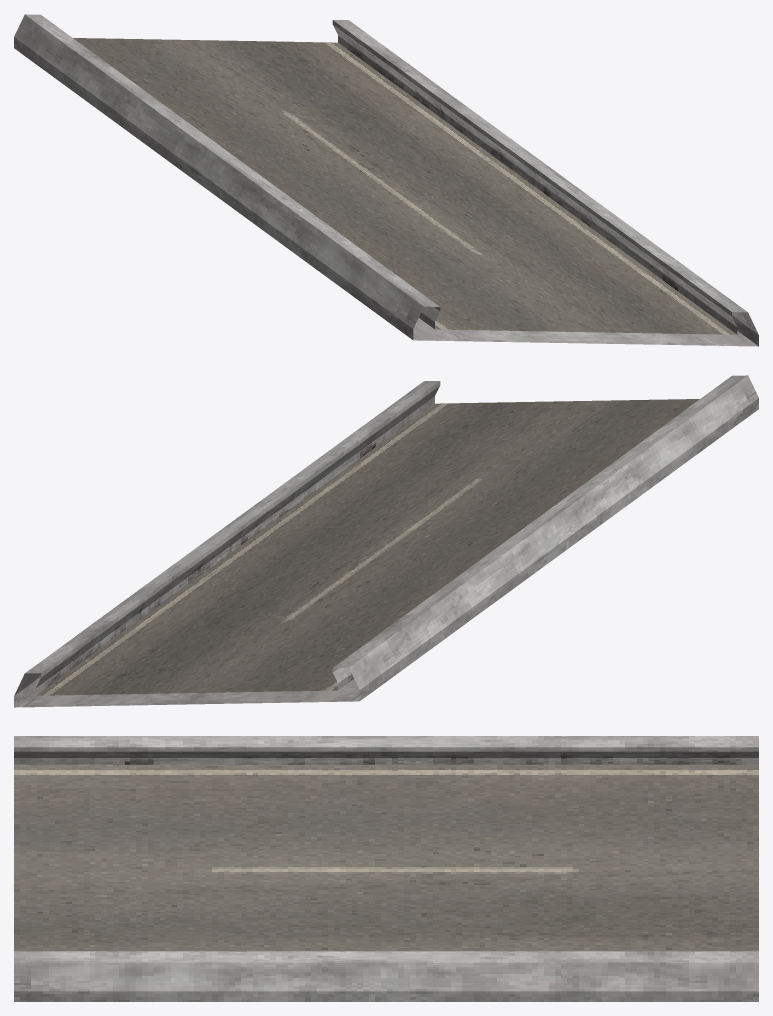
Rendered from straight2.glb.
3 views of the same model, one above another, from view 1: azimuth 30°, elevation 25°; view 2: azimuth 150°, elevation 25°; view 3: azimuth 270°, elevation 25° (orthographic). The views are drawn at different scales.
Parts seen in each view (by area): view 1: road-Straight-HalfBankedRight-HalfBankedRight-Even-Center-Si; view 2: road-Straight-HalfBankedRight-HalfBankedRight-Even-Center-Si; view 3: road-Straight-HalfBankedRight-HalfBankedRight-Even-Center-Si.
Boxes of the visible parts, x1,y1,x2,y2 form: road-Straight-HalfBankedRight-HalfBankedRight-Even-Center-Si: [14, 14, 758, 346]; road-Straight-HalfBankedRight-HalfBankedRight-Even-Center-Si: [14, 375, 758, 707]; road-Straight-HalfBankedRight-HalfBankedRight-Even-Center-Si: [14, 736, 758, 1001].
Bounding box in the file's own units: 1 × 0.3359 × 2.
2 materials, 2 textured.
